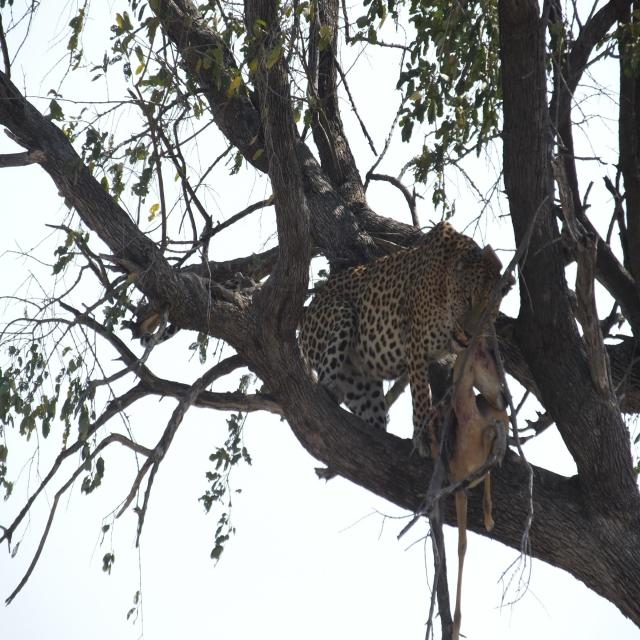Leopard: (152, 220, 514, 445)
